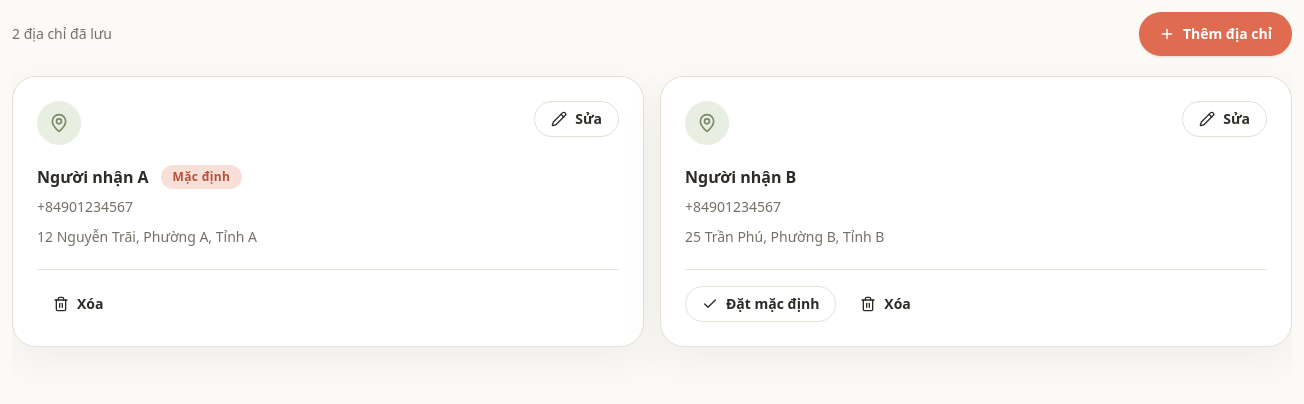
AddressBook › sets default and confirms deletion through dedicated actions
The width and height of the screenshot is (1304, 404).
expect the heading "Người nhận B" is shown: met, box [685,165,796,189]
Click the button "Đặt mặc định": x=761, y=304 [685,286,836,322]
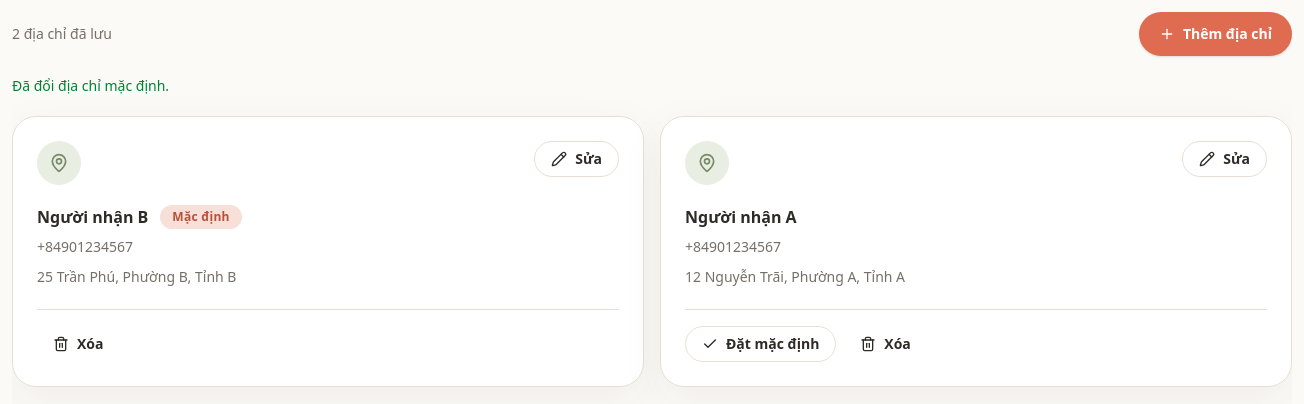
expect the text "Đã đổi địa chỉ mặc định." is shown: met, box [12,76,169,95]
Click the button "Xóa" below "25 Trần Phú, Phường B, Tỉnh B": x=78, y=344 [37,326,120,362]
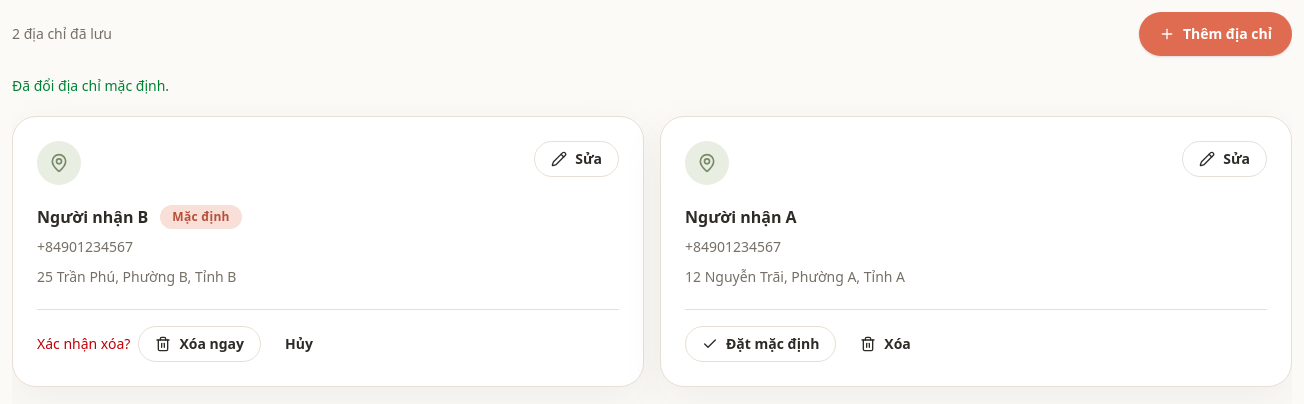
Click the button "Xóa ngay": x=200, y=344 [138,326,261,362]
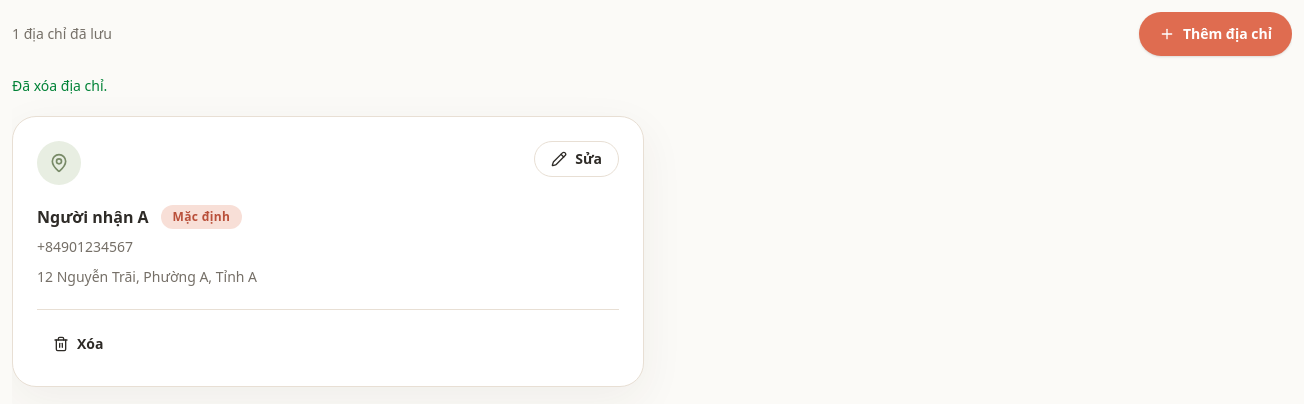
expect the text "Đã xóa địa chỉ." is shown: met, box [12,76,107,95]
